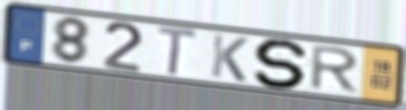2: (102, 20, 144, 74)
8: (50, 15, 93, 65)
K: (208, 32, 250, 84)
R: (306, 44, 363, 95)
S: (251, 37, 313, 90)
T: (155, 23, 201, 78)
